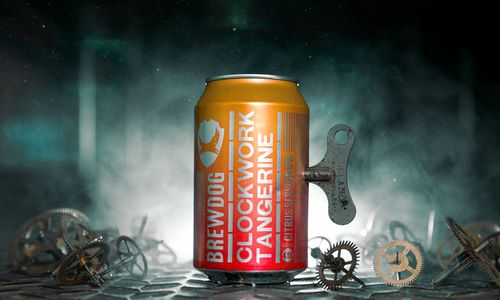can: (192, 70, 312, 290)
